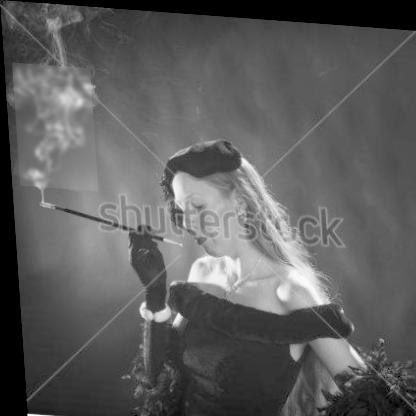smoke: (11, 63, 96, 190)
